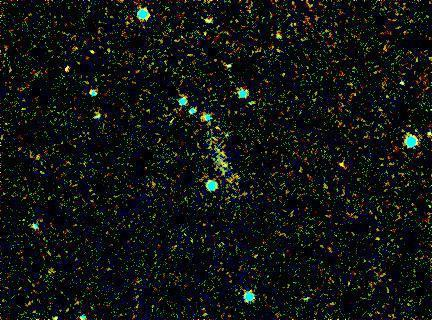star: (50, 52, 80, 82)
